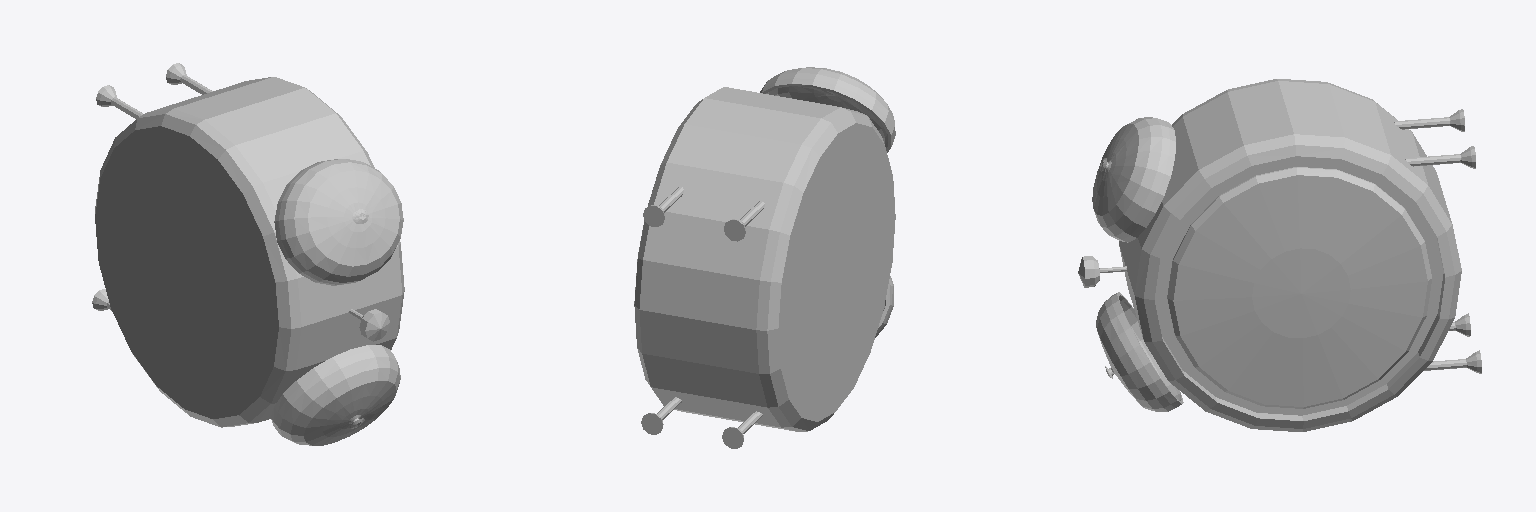
Rendered from alarmClock1.obj.
3 renders of one model, left to right at view 1: azimuth 30°, elevation 25°; view 2: azimuth 150°, elevation 25°; view 3: azimuth 270°, elevation 25°, orthographic.
Visible parts, largest first — view 1: M006126; view 2: M006126; view 3: M006126.
Boxes of the visible parts, x1,y1,x2,y2 form: M006126: [92, 63, 404, 445]; M006126: [634, 67, 895, 448]; M006126: [1078, 79, 1481, 431].
Size of the model in its own units: 0.1 by 0.1669 by 0.2041.